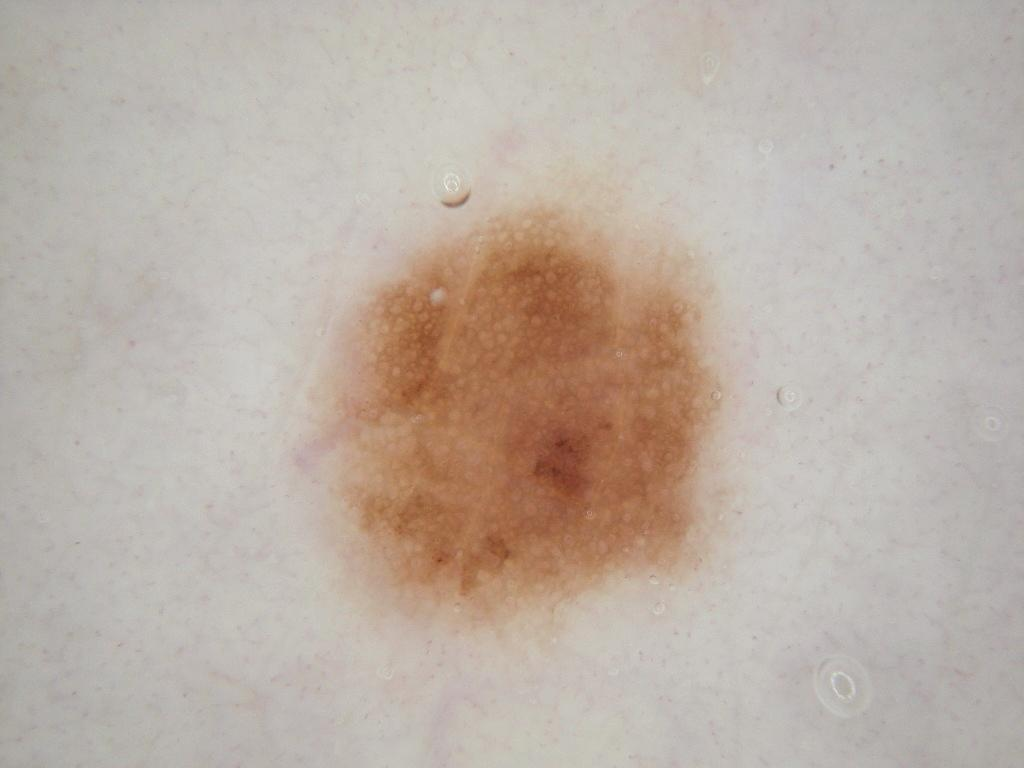Detected Lesion: (303, 196, 744, 630)
